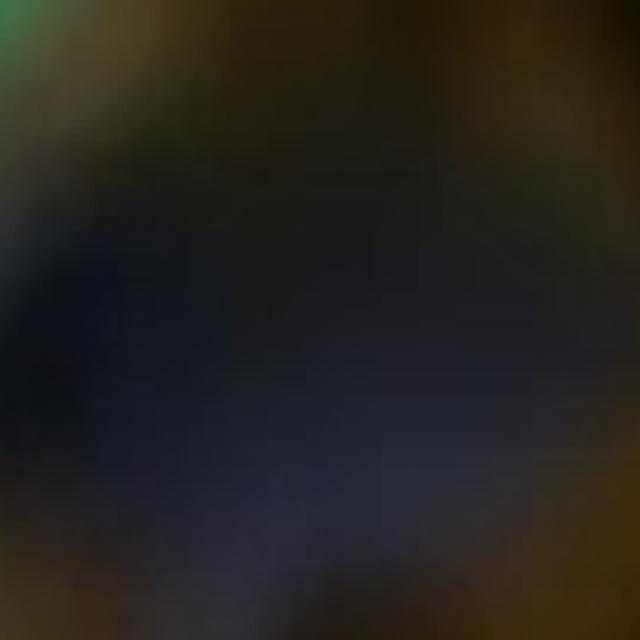fish: (0, 1, 636, 633)
